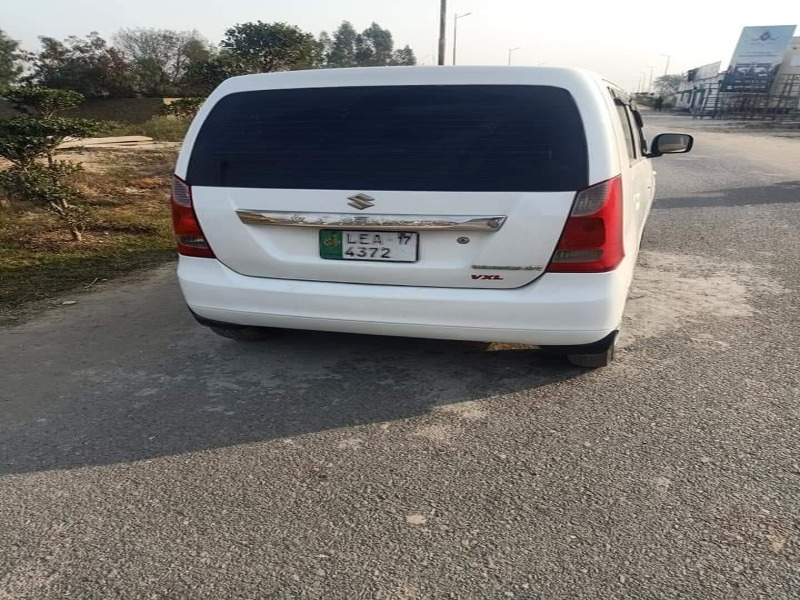License Plate: (313, 223, 424, 268)
